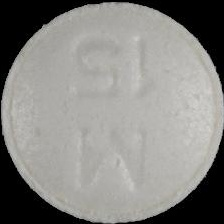50090-0040: (0, 0, 224, 224)
